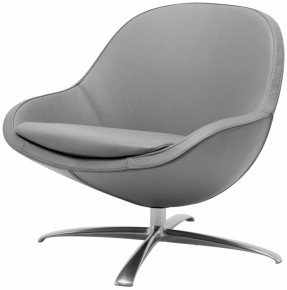chairs: (2, 3, 287, 290)
